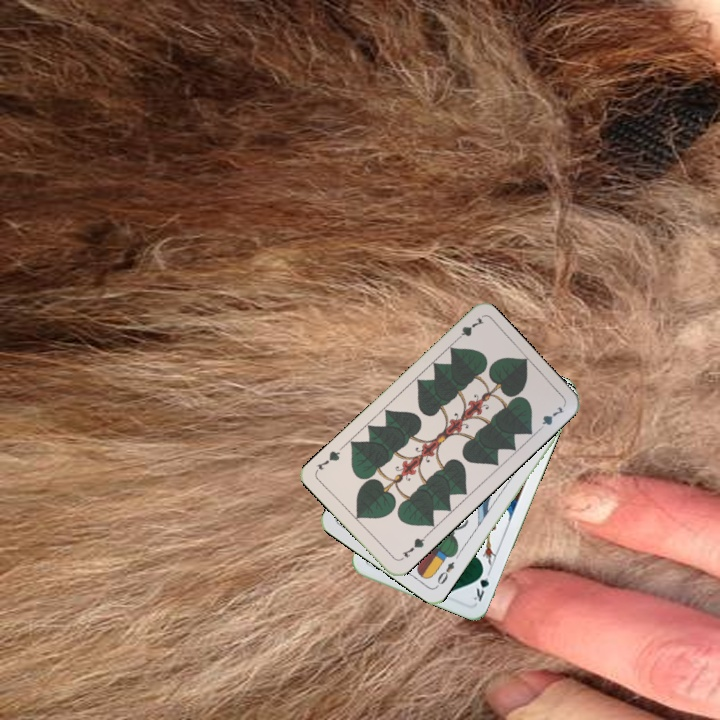EO: (432, 557, 457, 590)
G7: (450, 313, 486, 345), (398, 531, 429, 561)
GK: (469, 564, 493, 604)
